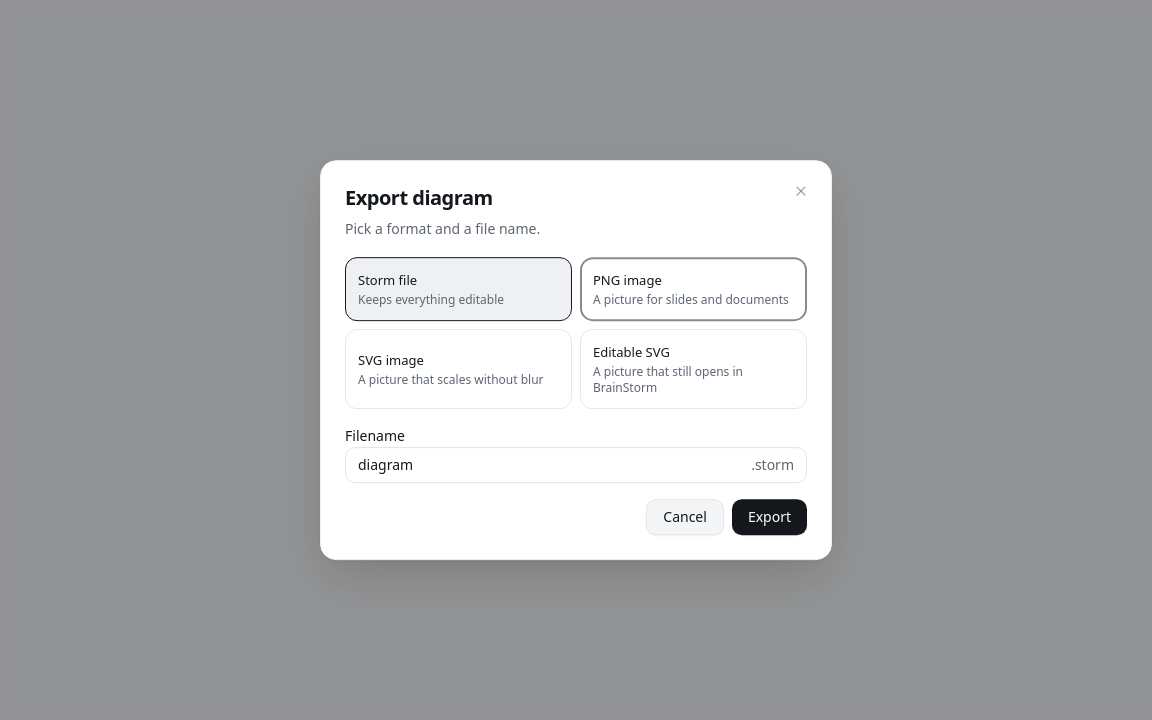
the export dialog › moves the focus to the file name after a mouse click on a format, and keeps it on the format from the keyboard
The image size is (1152, 720).
Later steps or results of the test are not shown.
// Enter or Space on a button: a click with detail 0
Click the radio button labelled "PNG image A picture for slides and documents" at coordinates (694, 289), box [580,257,807,321]
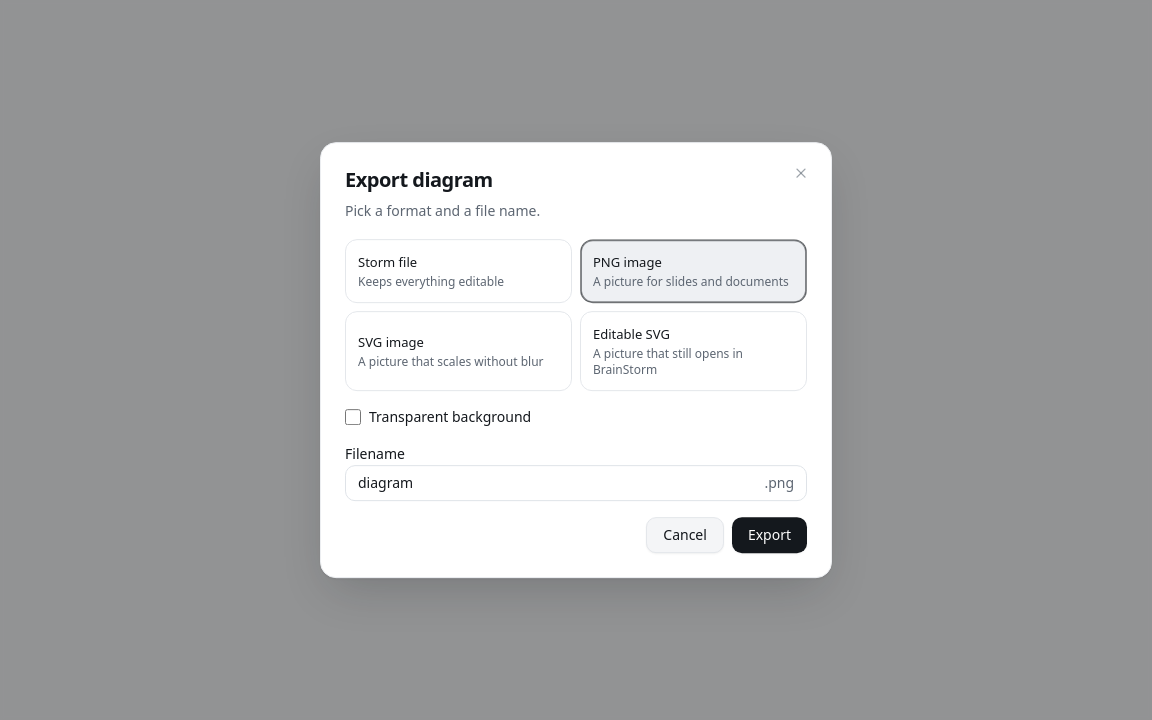
Check: the radio button labelled "PNG image A picture for slides and documents" is checked, box [580,239,807,303]
